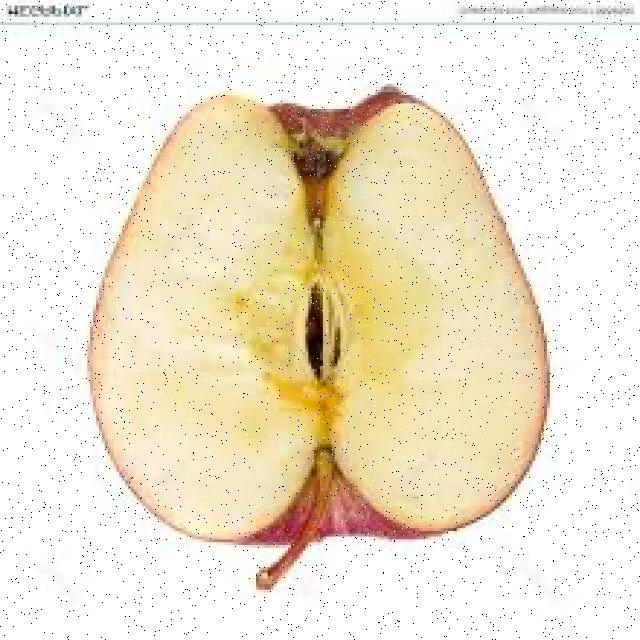Apple: (87, 92, 546, 550)
